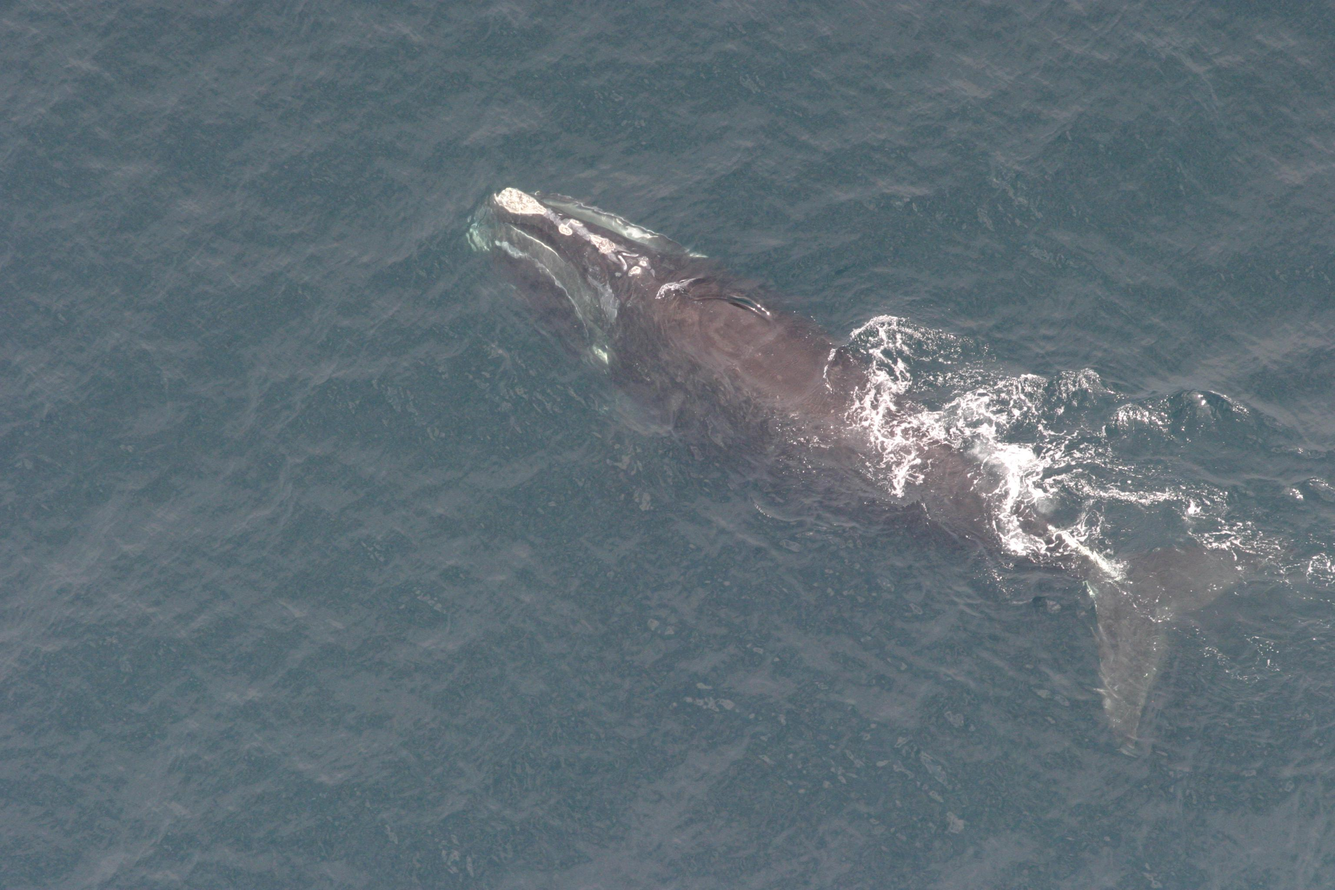whale: (457, 179, 1296, 764)
